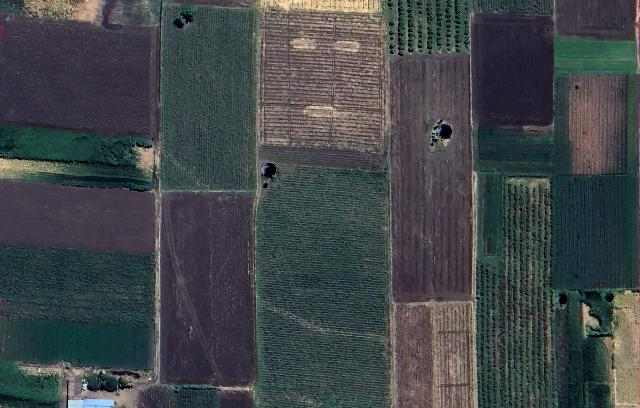DryFarms: (258, 0, 386, 148), (397, 310, 475, 402), (572, 81, 626, 172)
EmptyFarms: (392, 56, 474, 304), (2, 15, 156, 137), (162, 192, 252, 382), (1, 188, 153, 244), (558, 3, 636, 31)
Farms: (257, 165, 390, 408), (476, 174, 556, 408), (3, 246, 153, 366), (162, 5, 256, 189), (472, 12, 552, 123), (554, 178, 634, 286), (388, 1, 470, 50), (478, 126, 552, 174), (558, 37, 638, 76)
